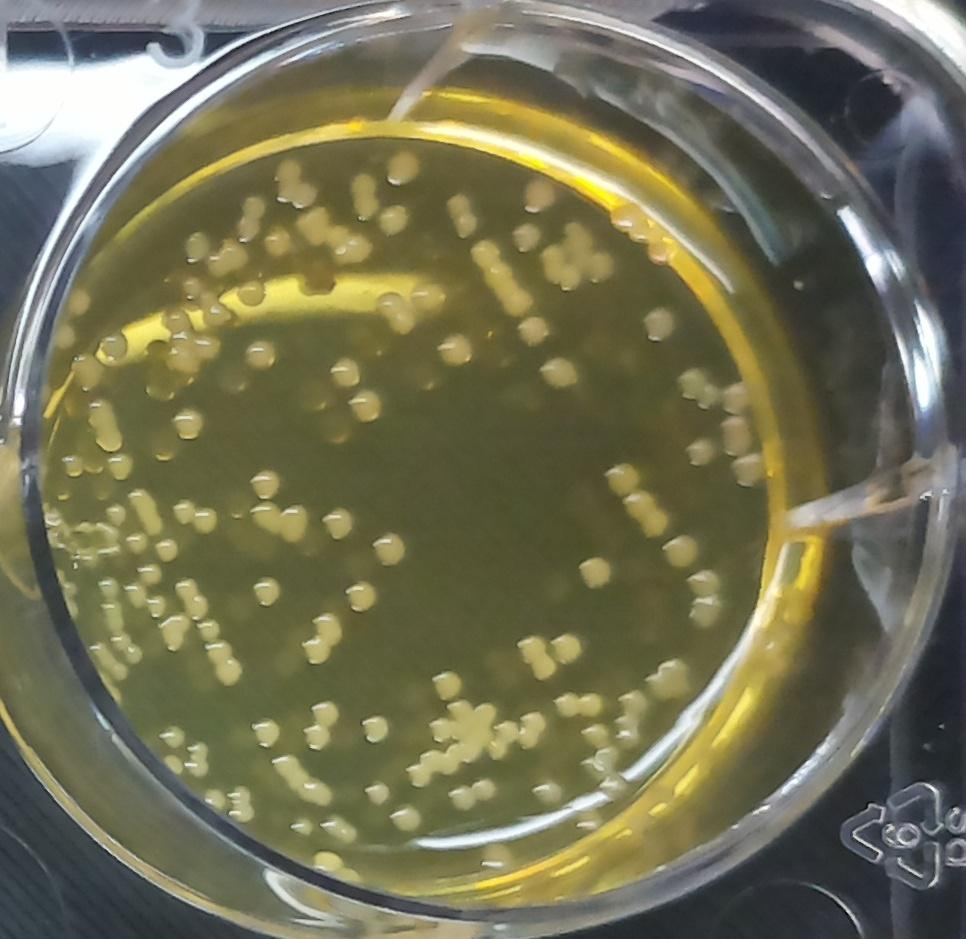vharveyi: (241, 705, 342, 804), (162, 575, 245, 688), (602, 451, 672, 546), (470, 233, 534, 325), (128, 482, 180, 565), (573, 549, 618, 594)
